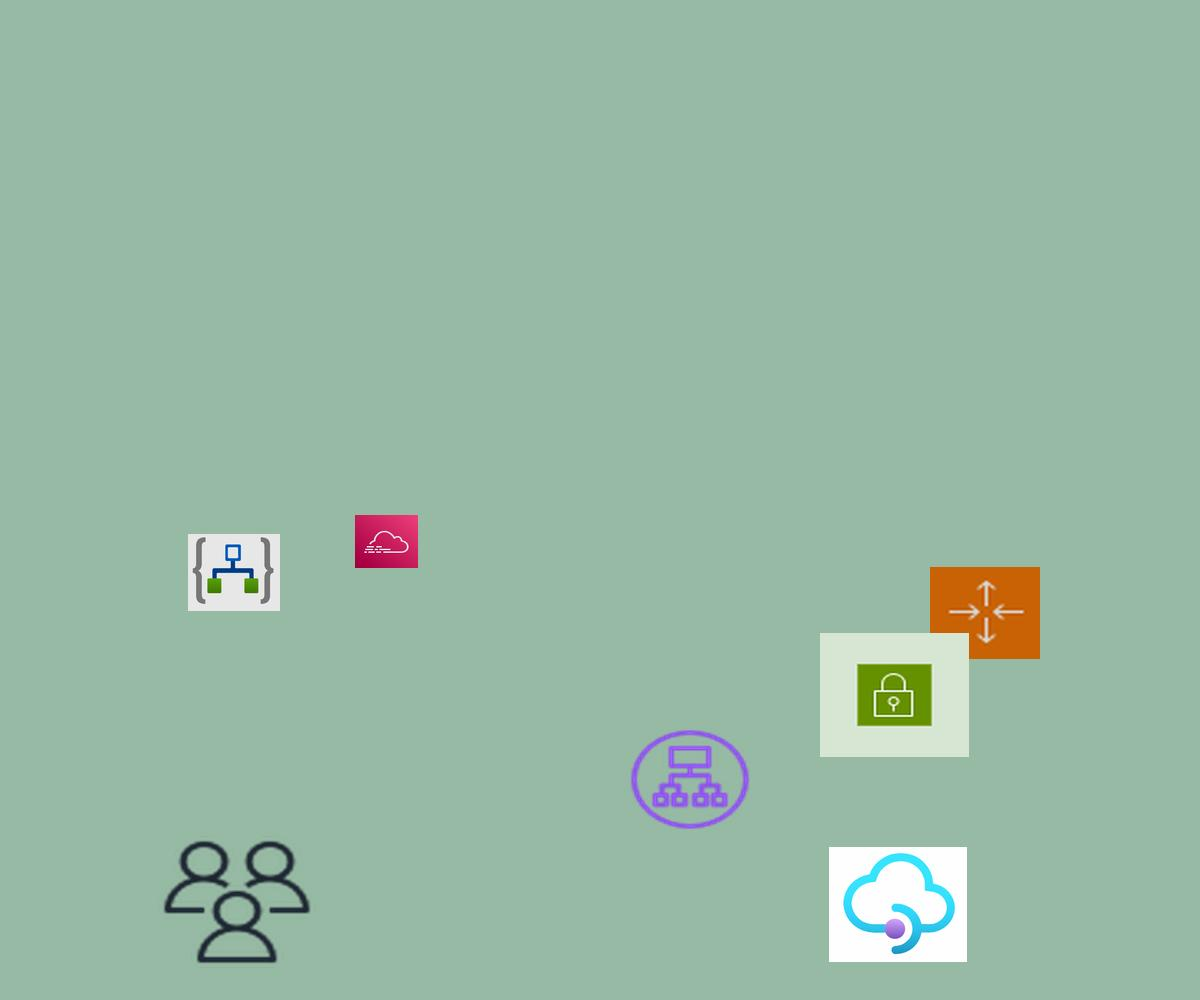AWS-CloudTrail: (355, 515, 418, 568)
AWS-Public-subnet: (820, 633, 969, 757)
AWS-Res_Elastic-Load-Balancing_Application-Load-Balancer: (626, 726, 754, 833)
AWS-Res_Users: (158, 836, 316, 968)
AWS-Scaling-group: (930, 567, 1040, 659)
Azure_api_gateway: (829, 847, 967, 962)
Azure_integration-204-Logic-Apps: (188, 534, 280, 611)
